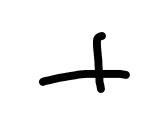plus: (39, 33, 128, 93)
